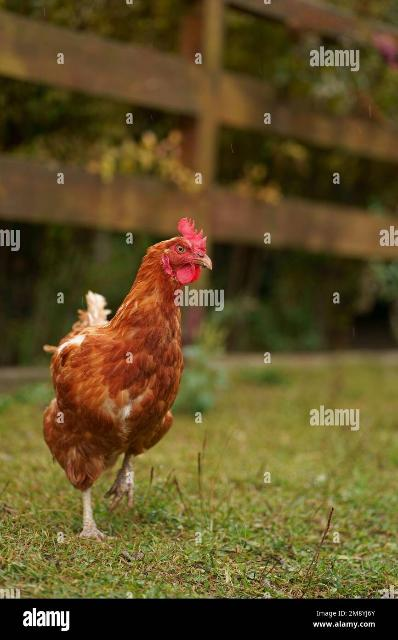Chicken: (43, 215, 214, 535)
